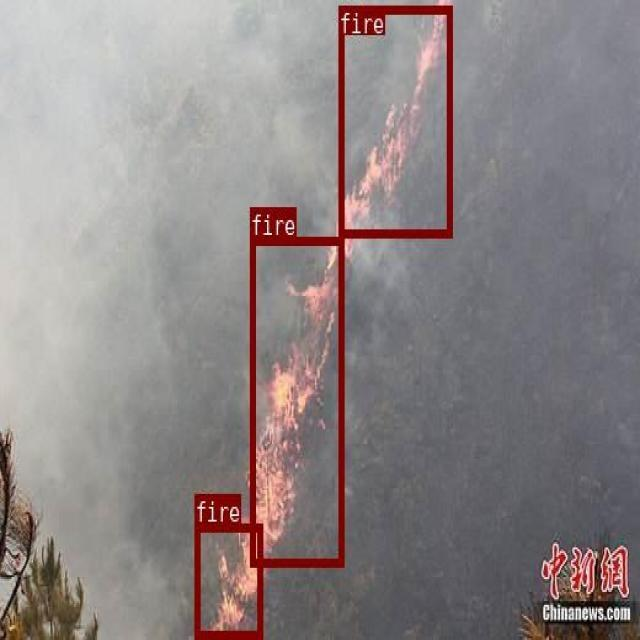fire: (249, 235, 342, 566), (338, 5, 451, 235), (193, 523, 262, 636)
